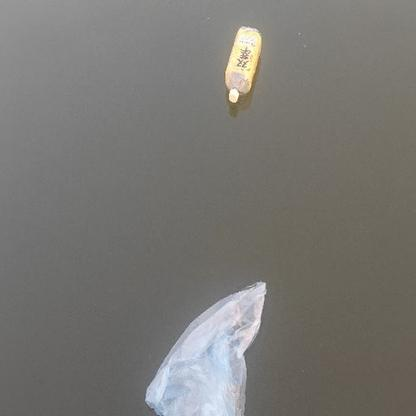plastic bag: (145, 281, 262, 416)
plastic bottle: (225, 26, 261, 102)
